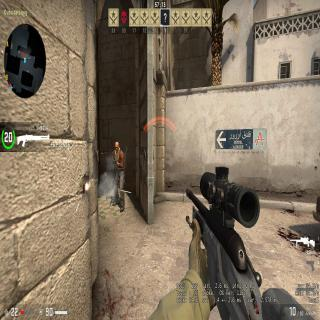T-Body: (111, 140, 126, 213)
T-Head: (114, 141, 120, 153)
